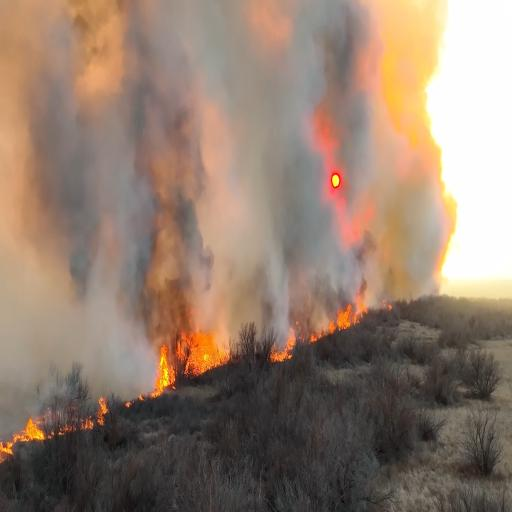fire: (152, 328, 212, 398), (314, 293, 367, 337)
smoke: (6, 2, 183, 294), (160, 0, 317, 276)
